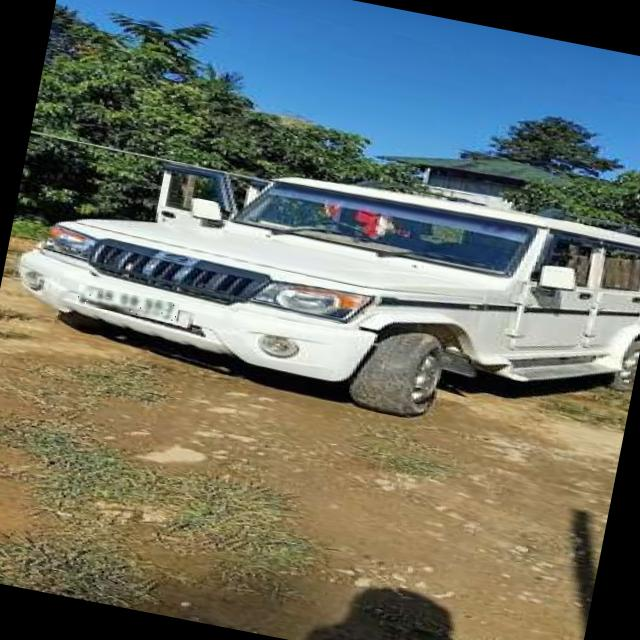Plate: (77, 286, 181, 325)
